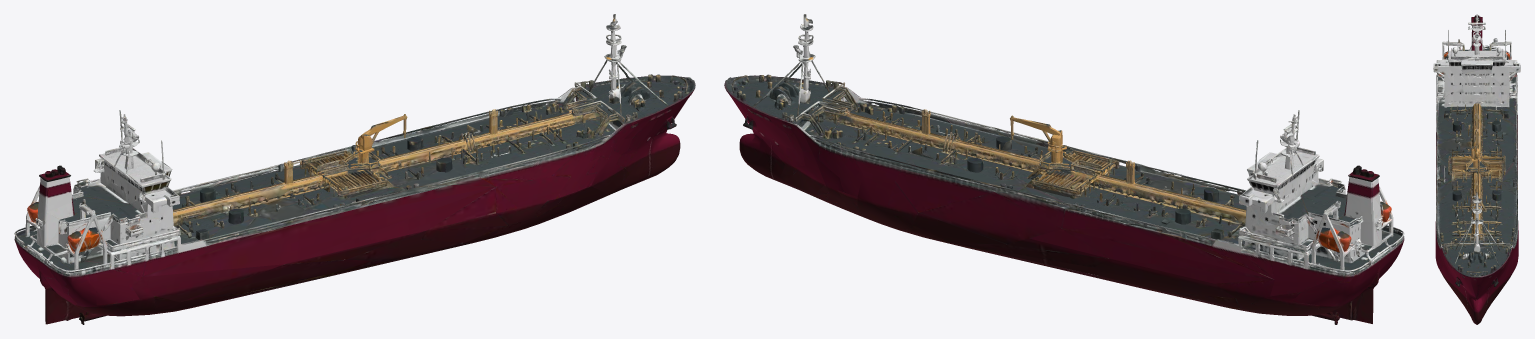
The model's file is 05_tanker_150m.glb.
The picture shows the model from 3 angles, left to right: view 1: azimuth 30°, elevation 25°; view 2: azimuth 150°, elevation 25°; view 3: azimuth 270°, elevation 25°; orthographic projection. The views are drawn at different scales.
Visible parts, largest first — view 1: Mesh_0; view 2: Mesh_0; view 3: Mesh_0.
Part boxes in pixels (x1,y1,x2,y2): Mesh_0: [14, 14, 695, 324]; Mesh_0: [724, 14, 1404, 324]; Mesh_0: [1433, 14, 1520, 324].
Bounding box in the file's own units: 150 × 41.96 × 25.
1 material, 1 textured.
